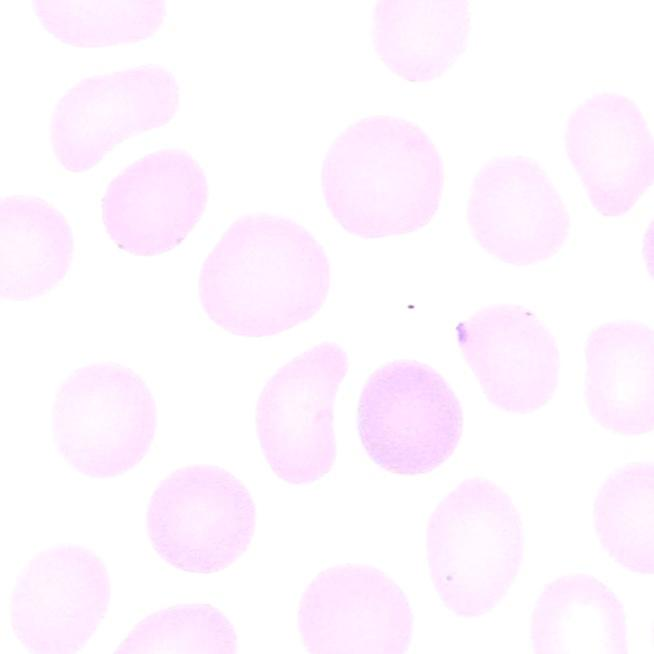Uninfected: (200, 209, 328, 338), (47, 62, 180, 174), (48, 359, 160, 487), (323, 116, 442, 236), (430, 472, 523, 625), (253, 339, 351, 484), (357, 359, 468, 476), (147, 466, 256, 576), (100, 151, 204, 258), (467, 156, 568, 264), (7, 546, 108, 654), (458, 302, 556, 413), (567, 92, 654, 214), (297, 566, 412, 654), (577, 319, 654, 431), (0, 194, 76, 306), (523, 572, 626, 654), (370, 0, 468, 83)
